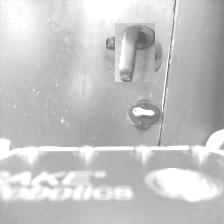Door Handle: (110, 28, 160, 78)
Lock: (129, 99, 159, 128)
